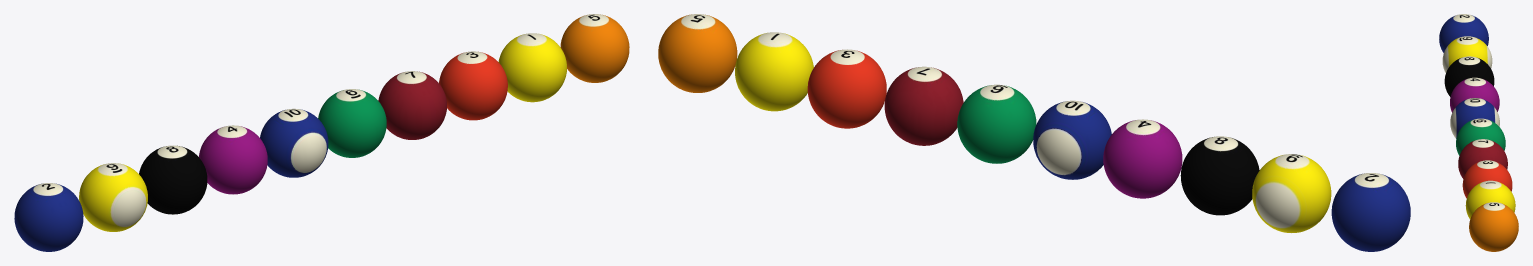
The model's file is balls.glb.
The picture shows the model from 3 angles, left to right: view 1: azimuth 30°, elevation 25°; view 2: azimuth 150°, elevation 25°; view 3: azimuth 270°, elevation 25°; orthographic projection. The views are drawn at different scales.
Parts seen in each view (by area): view 1: 2.002, 10.001, 5.001, 3.001, 4.001, 11.001, 7.001, 8.001, 1.002, 6.001; view 2: 4.001, 3.001, 10.001, 2.002, 5.001, 6.001, 7.001, 1.002, 8.001, 11.001; view 3: 5.001, 2.002, 8.001, 1.002, 7.001, 11.001, 6.001, 3.001, 10.001, 4.001.
Boxes of the visible parts, x1,y1,x2,y2 form: 2.002: (14,183,83,251); 10.001: (79,163,147,231); 5.001: (560,14,629,82); 3.001: (439,51,507,120); 4.001: (199,125,267,194); 11.001: (260,108,328,177); 7.001: (378,71,446,139); 8.001: (139,145,207,214); 1.002: (498,33,566,102); 6.001: (318,89,386,157); 4.001: (1103,119,1182,198); 3.001: (807,49,886,128); 10.001: (1252,154,1331,233); 2.002: (1331,173,1410,251); 5.001: (658,14,737,92); 6.001: (957,84,1036,163); 7.001: (884,66,963,145); 1.002: (735,32,813,111); 8.001: (1180,136,1259,215); 11.001: (1033,100,1111,179); 5.001: (1469,202,1518,251); 2.002: (1439,14,1488,52); 8.001: (1444,56,1494,96); 1.002: (1465,180,1515,219); 7.001: (1458,139,1507,178); 11.001: (1450,98,1499,138); 6.001: (1456,118,1505,155); 3.001: (1462,160,1512,198); 10.001: (1442,36,1492,72); 4.001: (1450,77,1499,112).
Size of the model in its own units: 5.23 by 0.6233 by 0.7991.
Materials: 10 (10 with a texture image).
